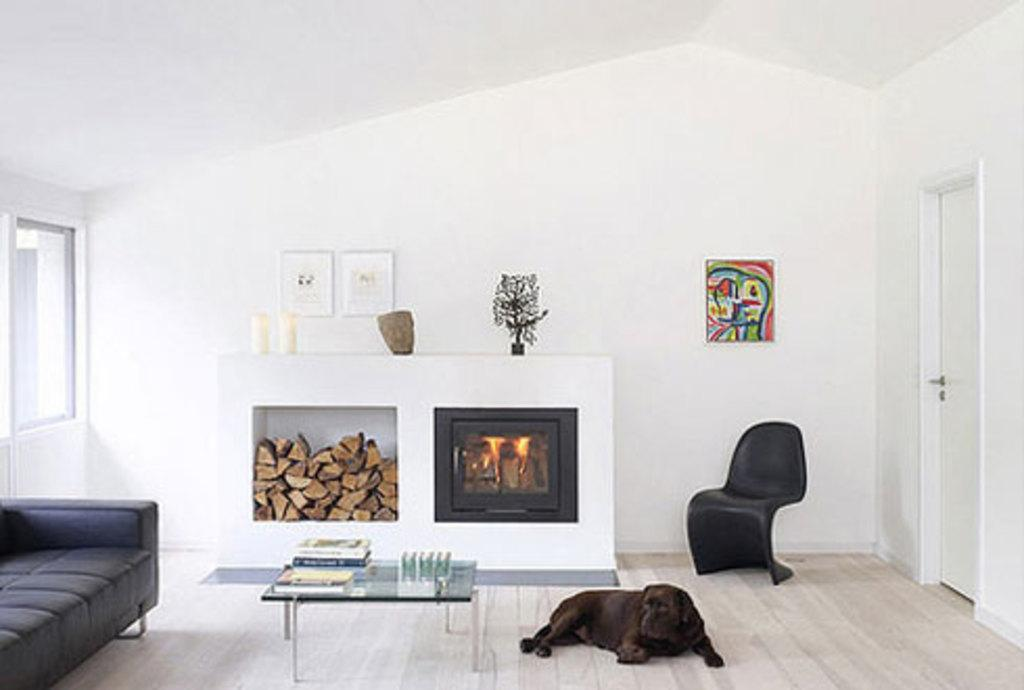Fire: (459, 435, 548, 490)
